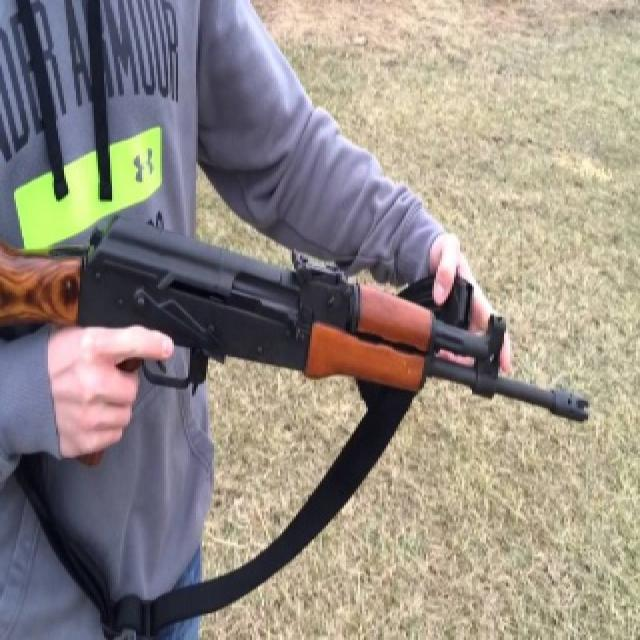weapon: (0, 206, 588, 427)
